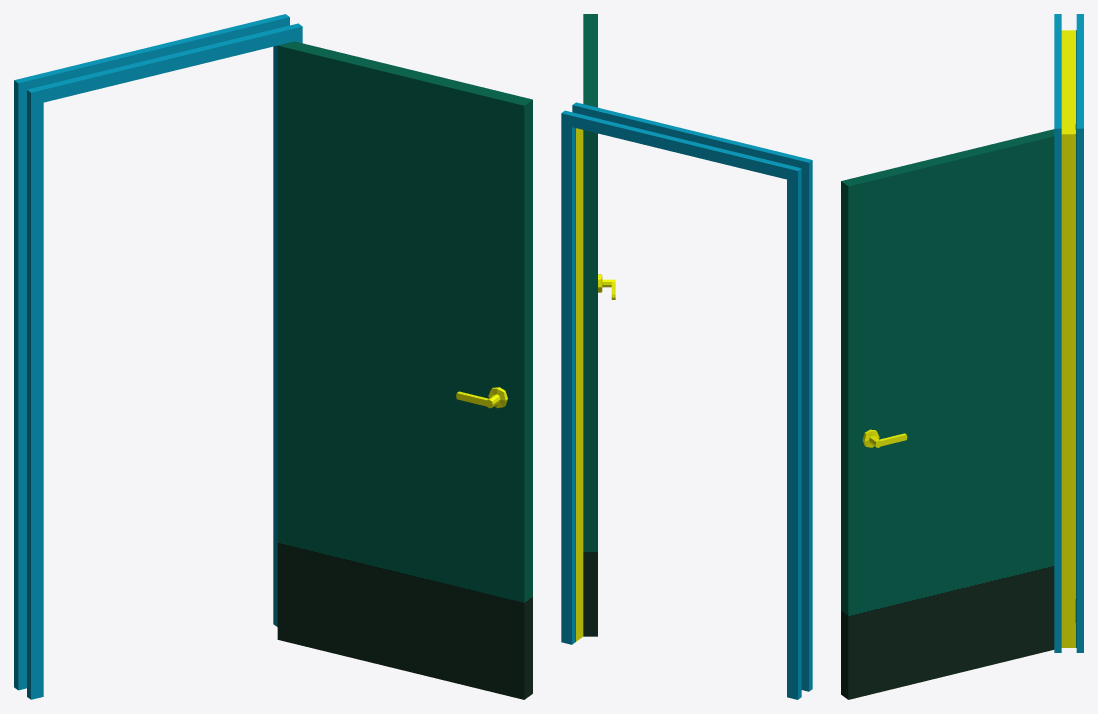
The model's file is hostel_door.glb.
3 views of the same model, side by side, from view 1: azimuth 30°, elevation 25°; view 2: azimuth 150°, elevation 25°; view 3: azimuth 270°, elevation 25° (orthographic). The views are drawn at different scales.
Visible parts, largest first — view 1: door, board; view 2: board, door, frame; view 3: door, board, frame, door_handle2.
Part boxes in pixels (x1,y1,x2,y2): door: (277,41,532,699); board: (14,14,302,699); board: (561,102,812,699); door: (583,14,597,636); frame: (575,128,583,641); door: (841,129,1054,699); board: (1054,14,1083,652); frame: (1061,30,1076,647); door_handle2: (862,429,907,447).
Size of what is drawn, in the model's own units: 1.57 by 2.35 by 0.986.
Materials: 2 (2 with a texture image).
